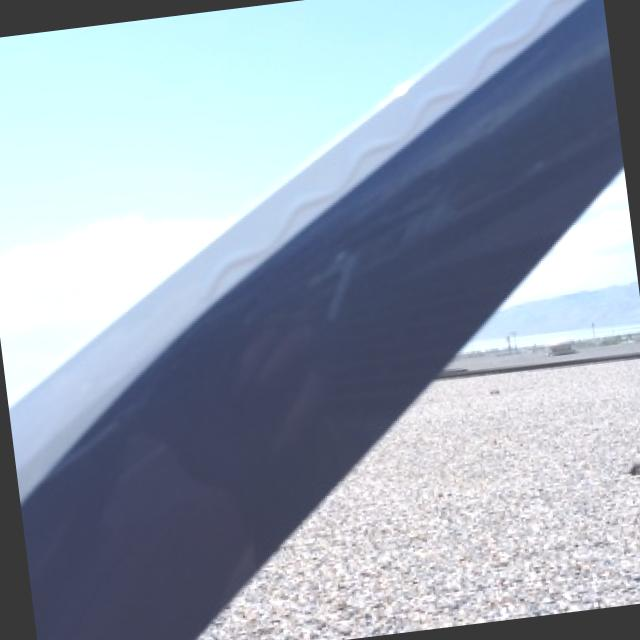healthy: (0, 0, 621, 640)
